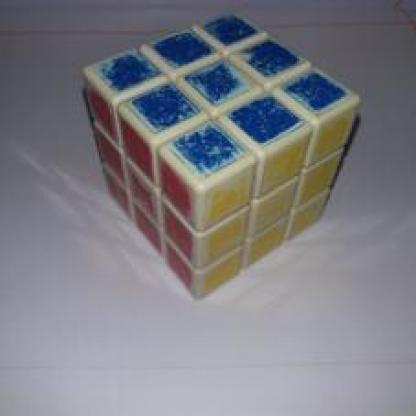cube: (74, 13, 365, 308)
